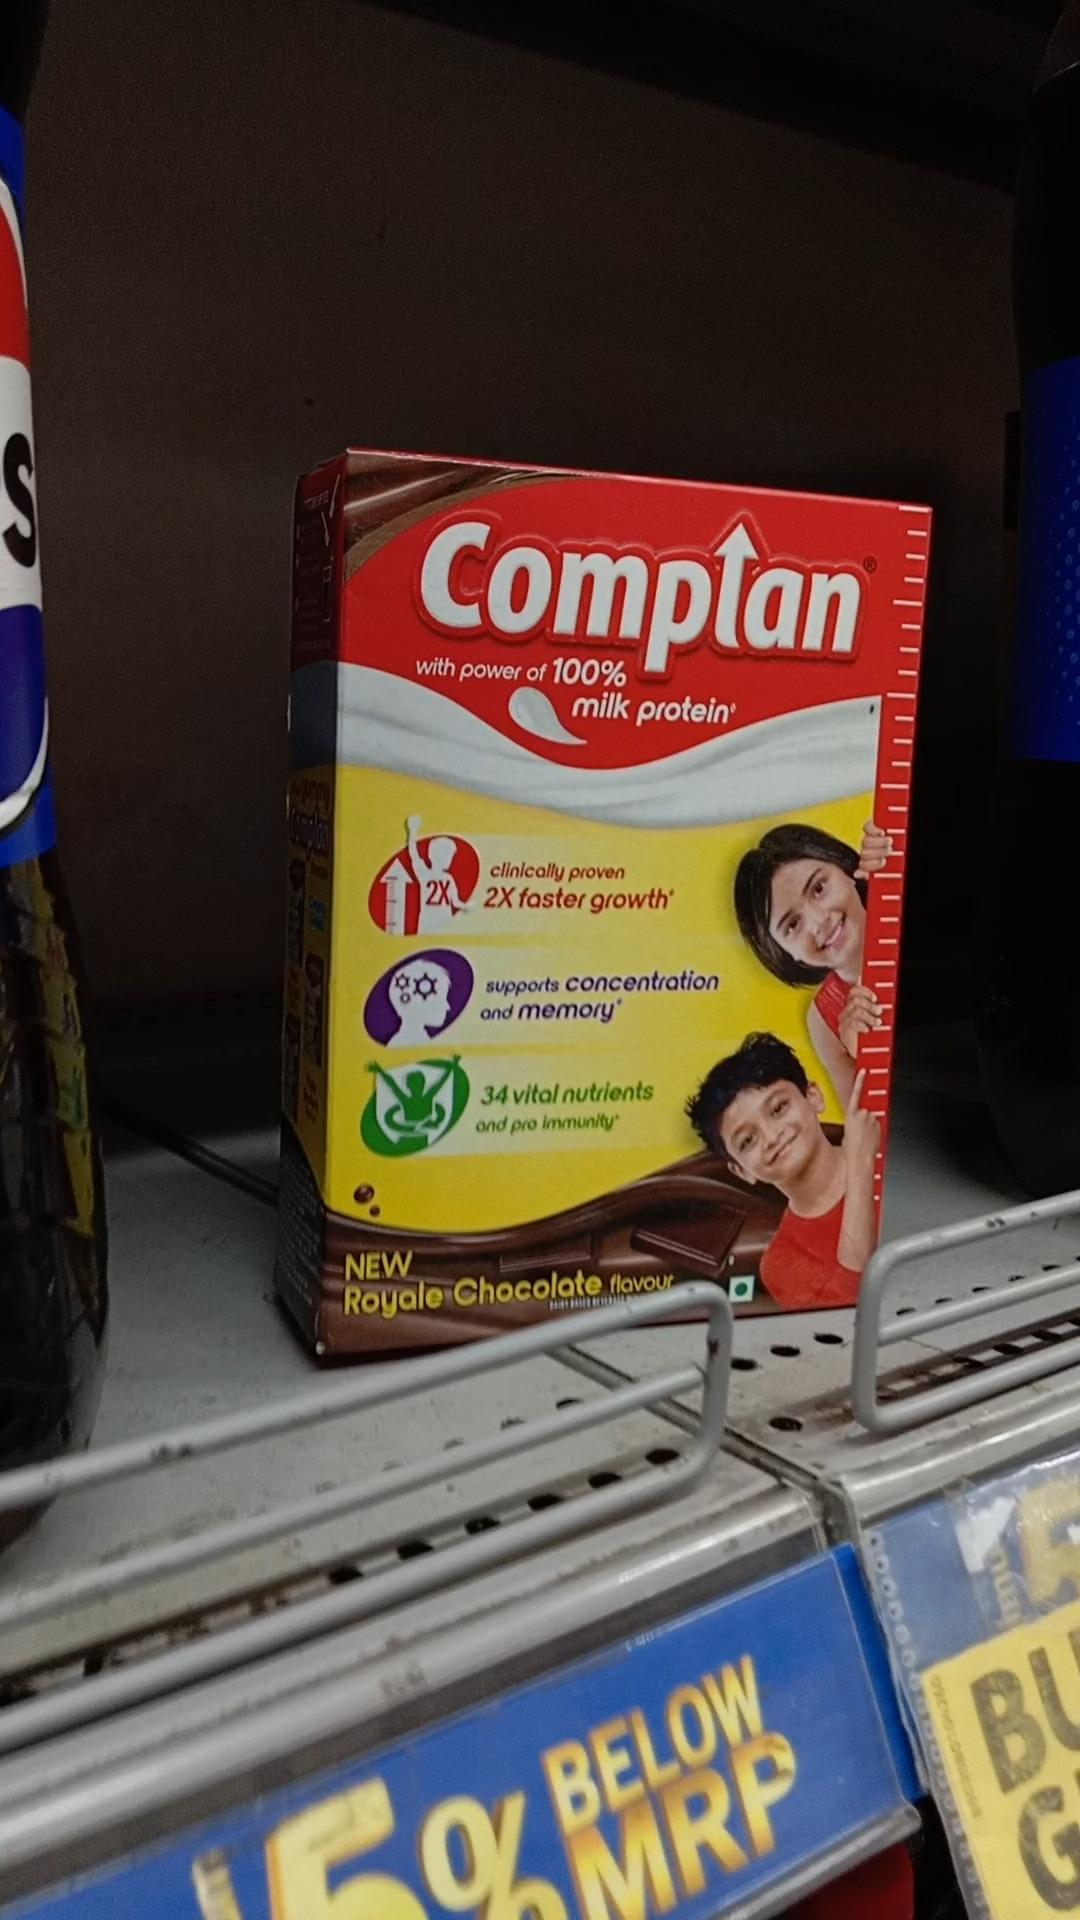COMPLAN_CHOCOLATE_200_GMS_PACK: (336, 460, 870, 1328)
